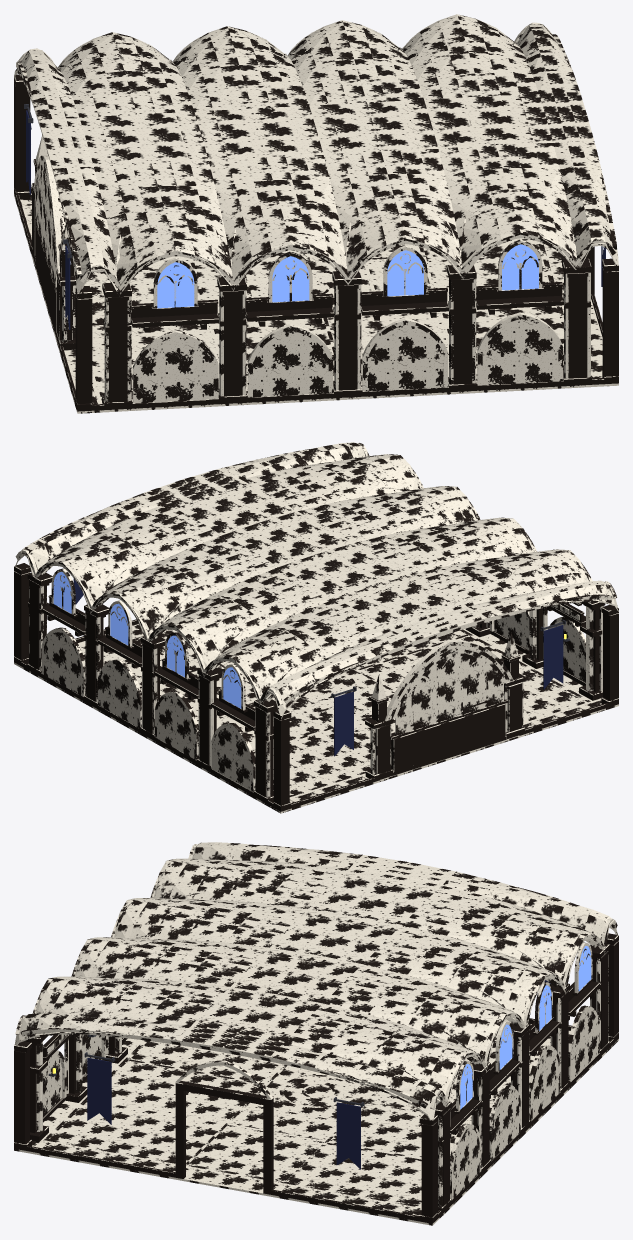
The model's file is ILHA3_03_MINING_HALL_545a69.fbx.
3 views of the same model, one above another, from view 1: azimuth 30°, elevation 25°; view 2: azimuth 150°, elevation 25°; view 3: azimuth 270°, elevation 25° (orthographic). The views are drawn at different scales.
Parts seen in each view (by area): view 1: SG_Hall_Vault__Stone_SGHallVault, SG_Hall_Floor__Stone_SGHallFloor, SG_Hall_Piers__Stone_SGHallVault, SG_Hall_Piers__Stone_SG_Trim, SG_Hall_Piers__Stone_SG_Castle, SG_Hall_Piers__Stone_SG_Castle_B, SG_Hall_Windows__Glass_SGHallMoon, SG_Hall_Vault__Stone_SG_Castle_B, SG_Hall_Windows__Stone_SG_Trim, SG_Hall_Altar__Stone_SG_Trim, SG_Hall_Altar__Stone_SG_Castle_B, SG_Hall_Floor__Stone_SG_Trim (+3 smaller); view 2: SG_Hall_Vault__Stone_SGHallVault, SG_Hall_Floor__Stone_SGHallFloor, SG_Hall_Piers__Stone_SG_Trim, SG_Hall_Piers__Stone_SG_Castle, SG_Hall_Piers__Stone_SGHallVault, SG_Hall_Altar__Stone_SG_Castle_B, SG_Hall_Altar__Stone_SGHallVault, SG_Hall_Piers__Stone_SG_Castle_B, SG_Hall_Altar__Stone_SG_Trim, SG_Hall_Vault__Stone_SG_Castle_B, SG_Hall_Banners__Cloth_SG_Navy, SG_Hall_Windows__Glass_SGHallMoon (+3 smaller); view 3: SG_Hall_Vault__Stone_SGHallVault, SG_Hall_Floor__Stone_SGHallFloor, SG_Hall_Piers__Stone_SG_Trim, SG_Hall_Piers__Stone_SG_Castle, SG_Hall_Piers__Stone_SGHallVault, SG_Hall_Piers__Stone_SG_Castle_B, SG_Hall_Floor__Stone_SG_Trim, SG_Hall_Banners__Cloth_SG_Navy, SG_Hall_Vault__Stone_SG_Castle_B, SG_Hall_Windows__Glass_SGHallMoon, SG_Hall_Windows__Stone_SG_Trim, SG_Hall_Vault__Stone_SG_Trim.
Boxes of the visible parts, x1,y1,x2,y2 form: SG_Hall_Vault__Stone_SGHallVault: [14, 14, 618, 298]; SG_Hall_Floor__Stone_SGHallFloor: [14, 193, 618, 413]; SG_Hall_Piers__Stone_SGHallVault: [138, 319, 558, 403]; SG_Hall_Piers__Stone_SG_Trim: [14, 74, 618, 411]; SG_Hall_Piers__Stone_SG_Castle: [14, 81, 618, 404]; SG_Hall_Piers__Stone_SG_Castle_B: [127, 273, 568, 401]; SG_Hall_Windows__Glass_SGHallMoon: [157, 244, 538, 308]; SG_Hall_Vault__Stone_SG_Castle_B: [17, 22, 616, 290]; SG_Hall_Windows__Stone_SG_Trim: [152, 239, 543, 311]; SG_Hall_Altar__Stone_SG_Trim: [31, 135, 76, 350]; SG_Hall_Altar__Stone_SG_Castle_B: [32, 167, 76, 342]; SG_Hall_Floor__Stone_SG_Trim: [92, 242, 563, 400]; SG_Hall_Vault__Stone_SGHallVault: [15, 442, 618, 718]; SG_Hall_Floor__Stone_SGHallFloor: [14, 624, 618, 813]; SG_Hall_Piers__Stone_SG_Trim: [14, 563, 618, 811]; SG_Hall_Piers__Stone_SG_Castle: [29, 582, 618, 805]; SG_Hall_Piers__Stone_SGHallVault: [44, 604, 585, 790]; SG_Hall_Altar__Stone_SG_Castle_B: [370, 659, 523, 774]; SG_Hall_Altar__Stone_SGHallVault: [395, 653, 503, 735]; SG_Hall_Piers__Stone_SG_Castle_B: [14, 571, 583, 796]; SG_Hall_Altar__Stone_SG_Trim: [365, 632, 525, 779]; SG_Hall_Vault__Stone_SG_Castle_B: [15, 443, 617, 705]; SG_Hall_Banners__Cloth_SG_Navy: [73, 578, 563, 756]; SG_Hall_Windows__Glass_SGHallMoon: [53, 572, 241, 708]; SG_Hall_Vault__Stone_SGHallVault: [14, 842, 618, 1120]; SG_Hall_Floor__Stone_SGHallFloor: [14, 1019, 618, 1225]; SG_Hall_Piers__Stone_SG_Trim: [14, 933, 618, 1223]; SG_Hall_Piers__Stone_SG_Castle: [14, 940, 618, 1207]; SG_Hall_Piers__Stone_SGHallVault: [43, 1010, 597, 1197]; SG_Hall_Piers__Stone_SG_Castle_B: [36, 952, 607, 1217]; SG_Hall_Floor__Stone_SG_Trim: [44, 1036, 550, 1207]; SG_Hall_Banners__Cloth_SG_Navy: [87, 980, 550, 1169]; SG_Hall_Vault__Stone_SG_Castle_B: [15, 844, 617, 1109]; SG_Hall_Windows__Glass_SGHallMoon: [460, 946, 591, 1109]; SG_Hall_Windows__Stone_SG_Trim: [454, 942, 593, 1113]; SG_Hall_Vault__Stone_SG_Trim: [20, 845, 575, 1108].
Bounding box in the file's own units: 114 × 28.65 × 112.
Materials: 6 (1 with a texture image).
